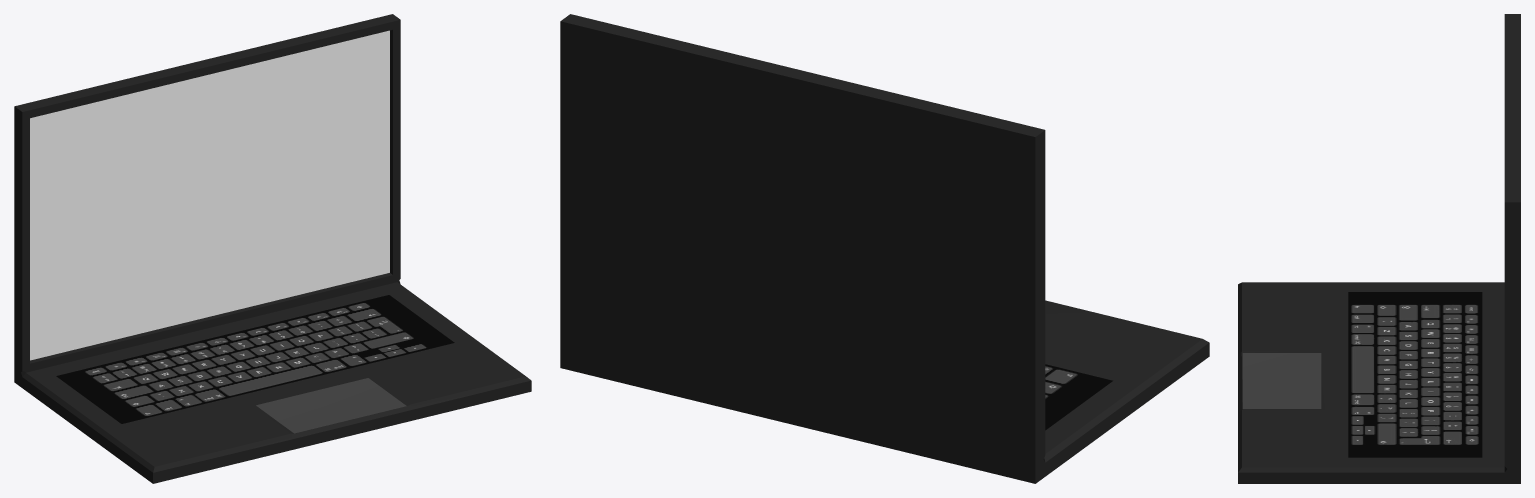
The model's file is laptop.fbx.
The picture shows the model from 3 angles, left to right: view 1: azimuth 30°, elevation 25°; view 2: azimuth 150°, elevation 25°; view 3: azimuth 270°, elevation 25°; orthographic projection. The views are drawn at different scales.
Visible parts, largest first — view 1: pCube1; view 2: pCube1; view 3: pCube1.
Part boxes in pixels (<box>): pCube1: <box>14,14,531,483</box>; pCube1: <box>560,14,1209,483</box>; pCube1: <box>1238,14,1520,483</box>.
Bounding box in the file's own units: 19.79 × 13.8 × 12.56.
1 material, 1 textured.
